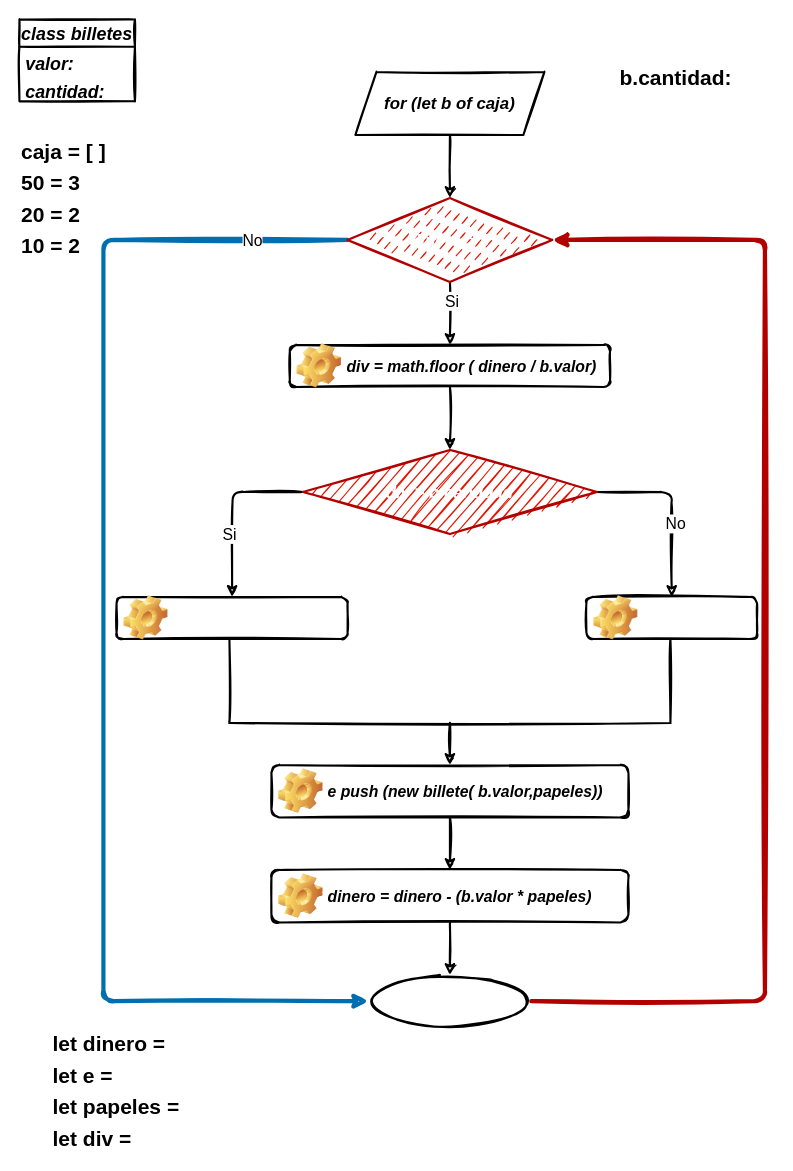
Some shapes in this 793 by 1171 pixel diagram are drawn without their labels. The centre of each missing label's shape, as x and y in pixels:
"ciclo" belongs at [449,1000].
"papeles = b.cantidad" belongs at [231,617].
"papeles = div" belongs at [671,617].
